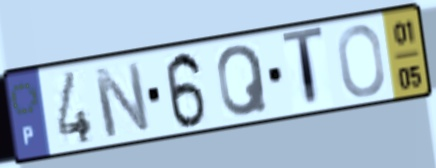4: (55, 68, 95, 147)
6: (162, 48, 208, 130)
N: (89, 59, 154, 142)
O: (335, 22, 388, 100)
Q: (215, 42, 271, 120)
T: (279, 23, 326, 112)
